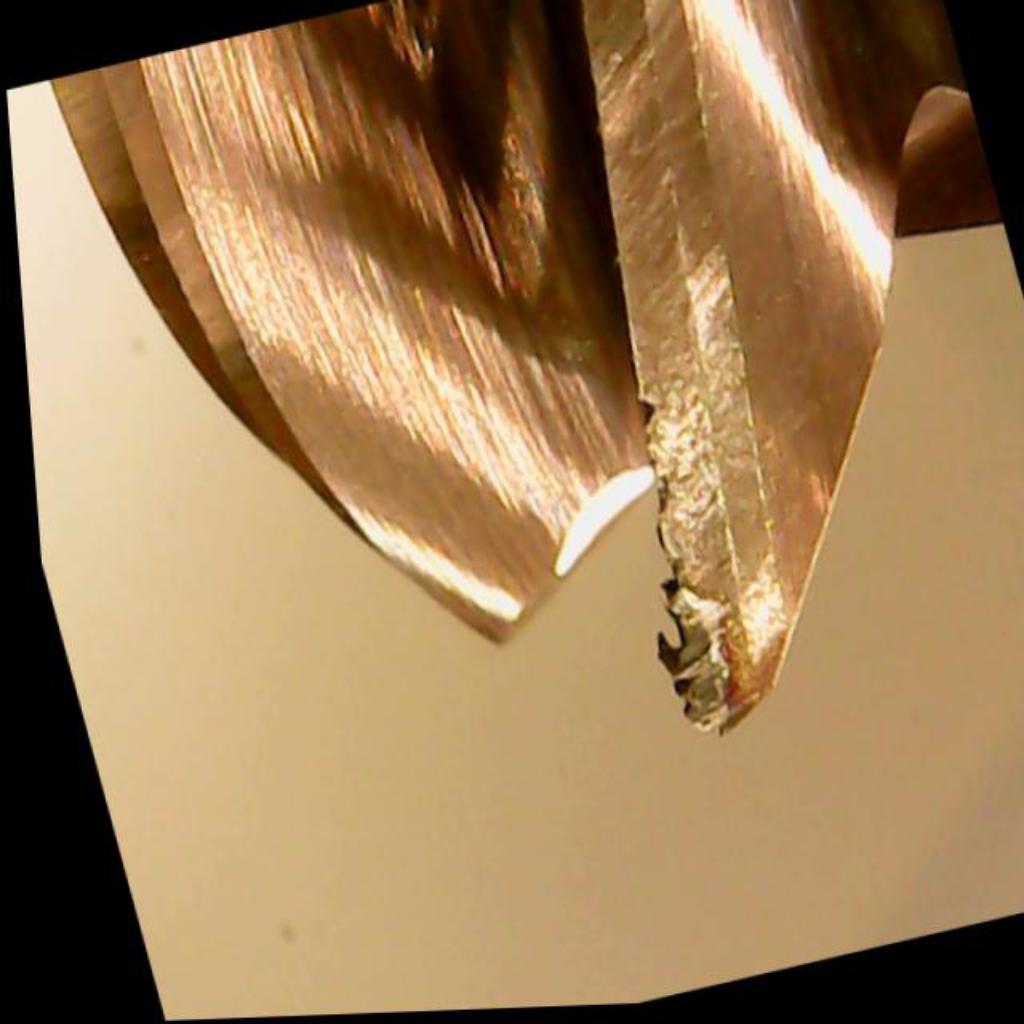Tool-wear-class-1: (553, 268, 831, 762)
